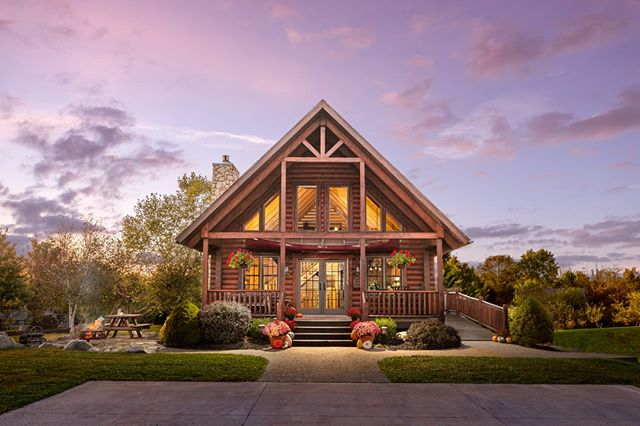building: (195, 101, 485, 338)
sky: (1, 11, 640, 225)
tree: (110, 174, 208, 318), (16, 219, 122, 345), (491, 244, 565, 335)
vegetation: (568, 285, 640, 369)
